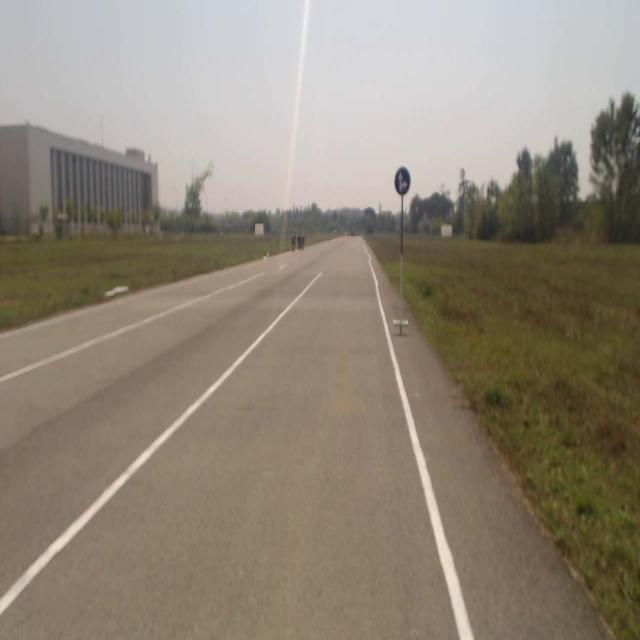ilerisag: (395, 166, 410, 195)
